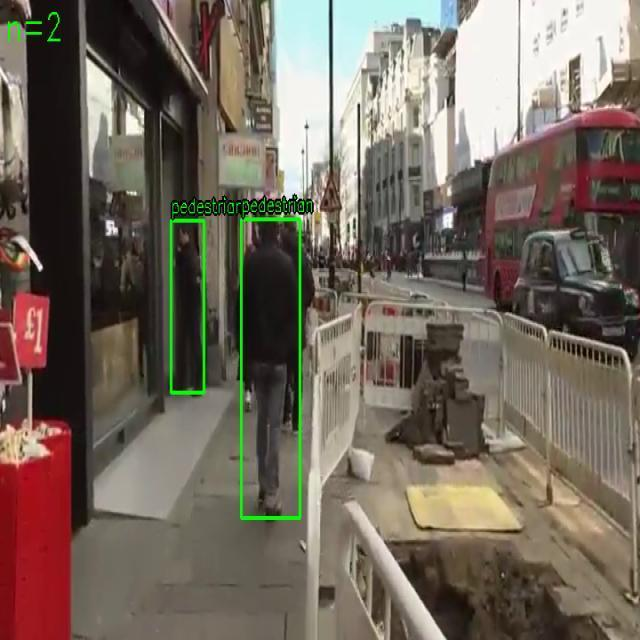person: (240, 218, 300, 518), (170, 220, 204, 393)
